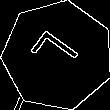L_SE: (27, 28, 87, 83)
